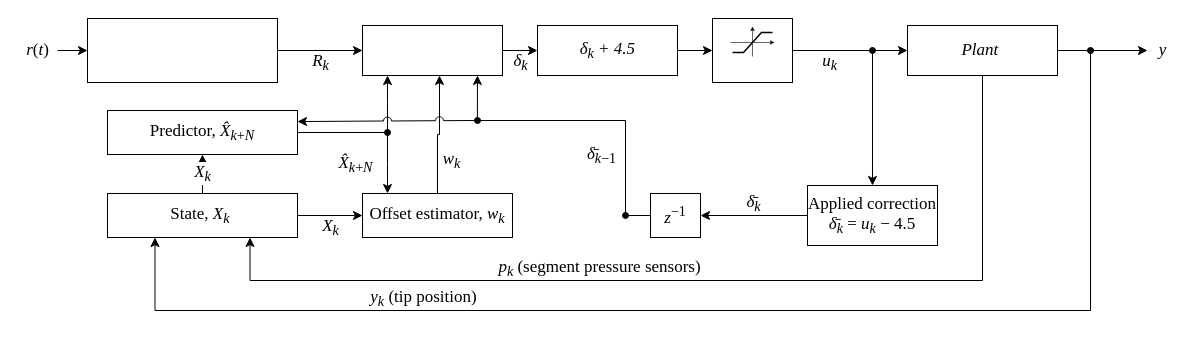
This 1194x337 diagram has some shape labels left out. The shapes that lost their labels are listed below. From the top down, each one's centre as x and y in pixels, then its label:
point 182,50: Reference preview, R k
point 432,50: MPC, δ k
point 752,50: [0, 9] psi
